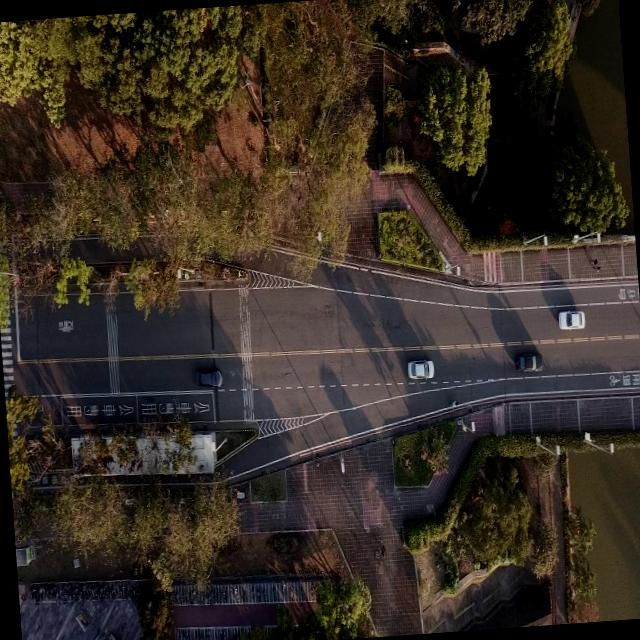car: (513, 348, 543, 374), (193, 364, 223, 389), (406, 356, 434, 381), (556, 306, 584, 330)
